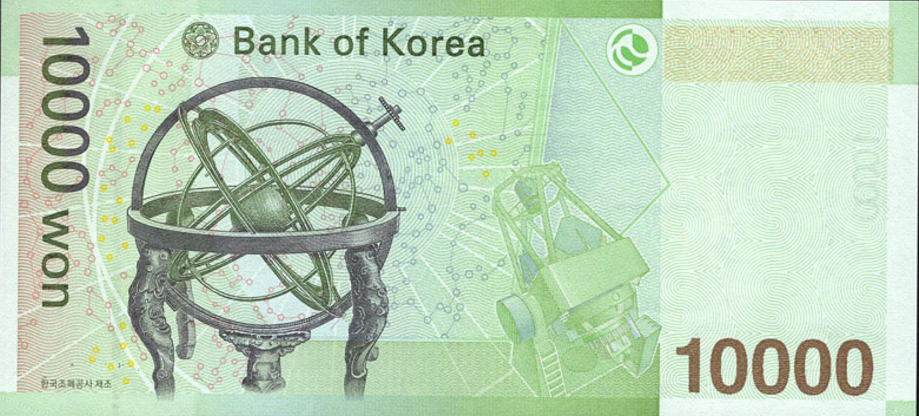10000won: (4, 4, 917, 413)
